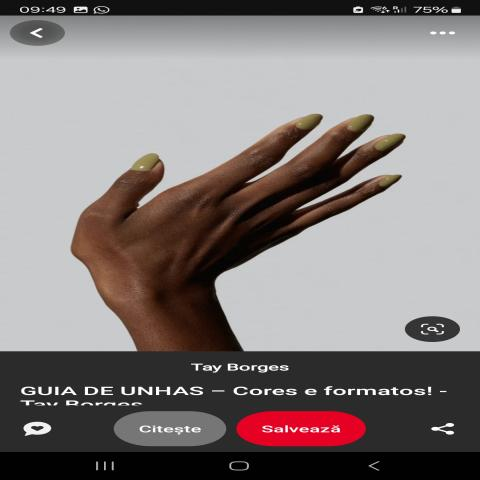hands: (56, 62, 422, 342)
